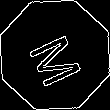M_NE: (22, 23, 88, 87)
